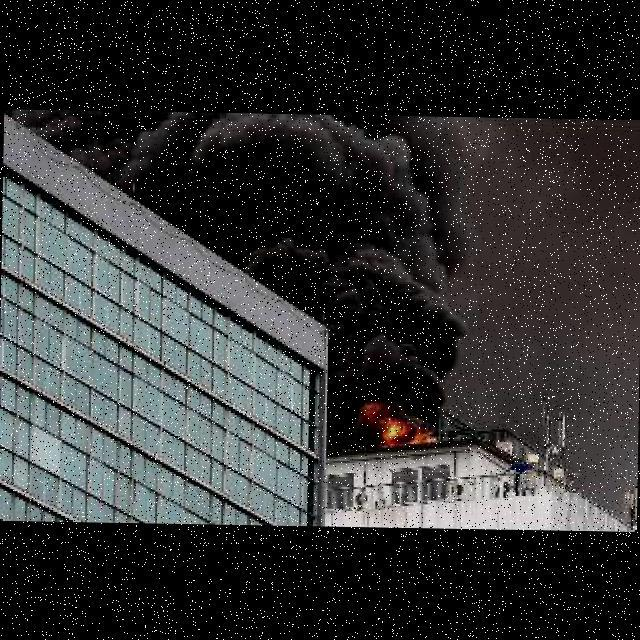Fire: (366, 403, 441, 444)
Smoke: (217, 111, 478, 403)
